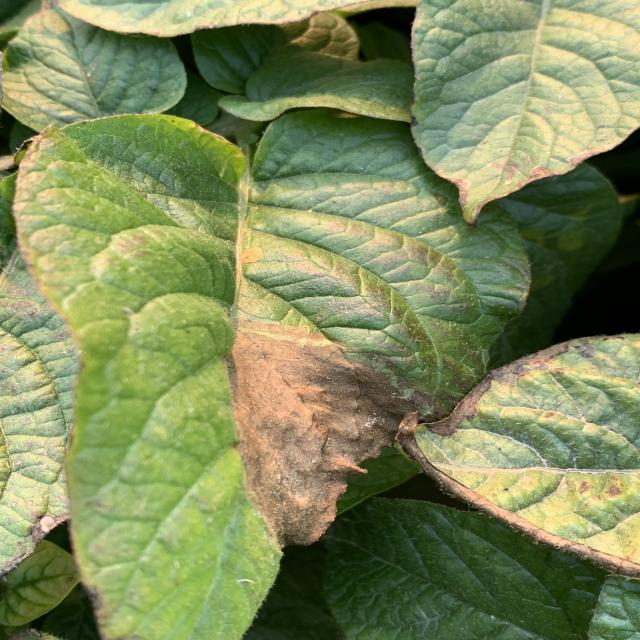lateblight: (230, 276, 432, 545)
